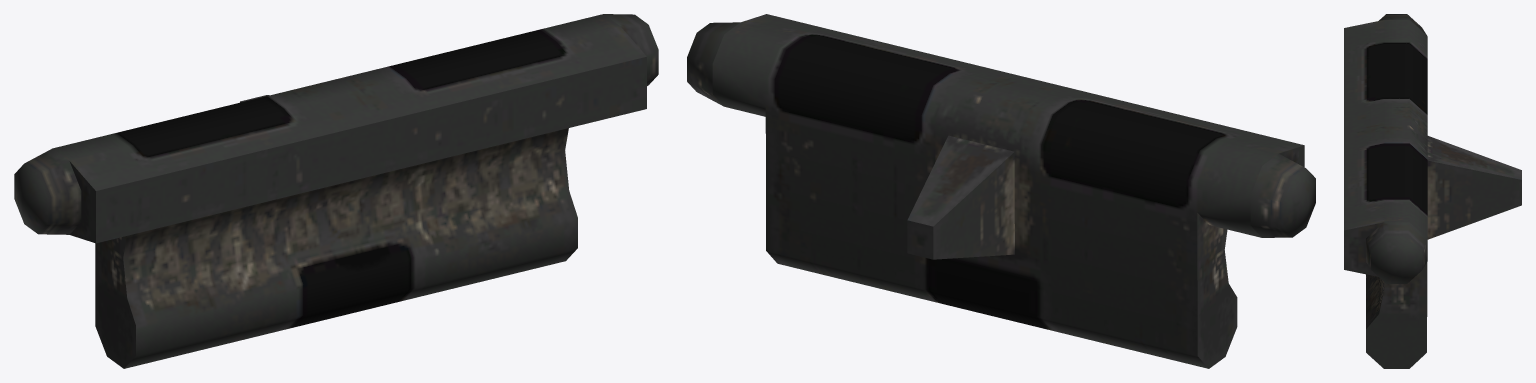
3 views of the same model, side by side, from view 1: azimuth 30°, elevation 25°; view 2: azimuth 150°, elevation 25°; view 3: azimuth 270°, elevation 25° (orthographic). The views are drawn at different scales.
Parts seen in each view (by area): view 1: set_0_group_0; view 2: set_0_group_0; view 3: set_0_group_0.
Part boxes in pixels (box(x1,y1,x2,y2)): set_0_group_0: box(14, 14, 658, 368); set_0_group_0: box(687, 14, 1315, 368); set_0_group_0: box(1344, 14, 1521, 368).
Size of the model in its own units: 0.3994 by 0.1345 by 0.13.
1 material, 1 textured.
